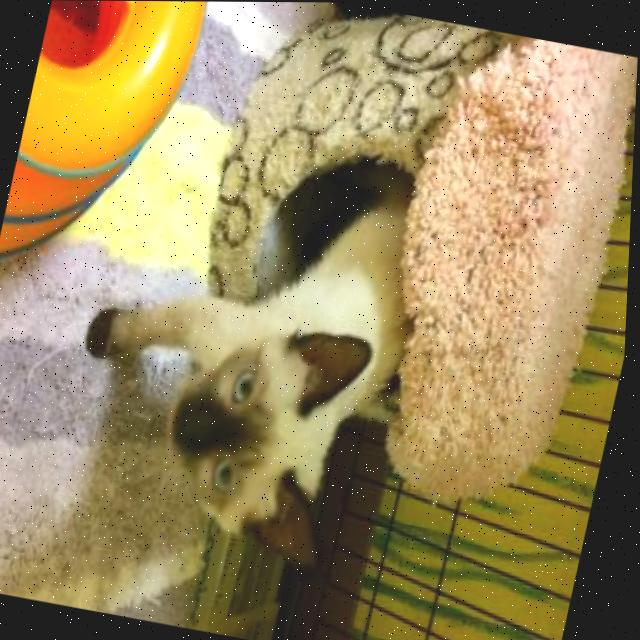Siamese: (36, 139, 445, 582)
